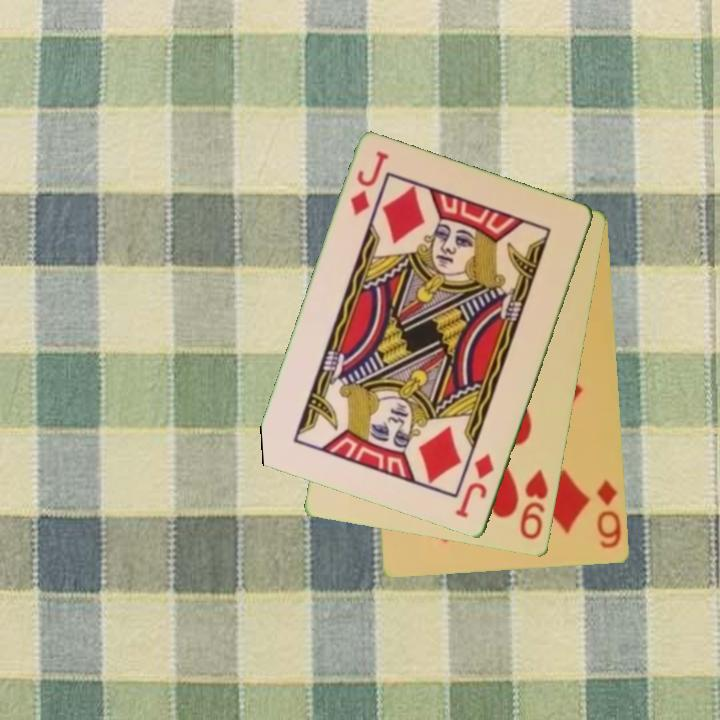6d: (594, 476, 625, 552)
9h: (516, 466, 552, 543)
Jd: (451, 450, 498, 522), (347, 148, 392, 219)
